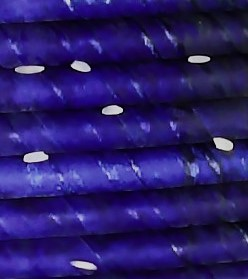broken_grain: (211, 132, 235, 155), (67, 55, 92, 75)
complete_grain: (70, 258, 100, 274), (20, 150, 49, 165), (186, 53, 215, 68), (14, 64, 46, 77), (98, 102, 125, 117)
